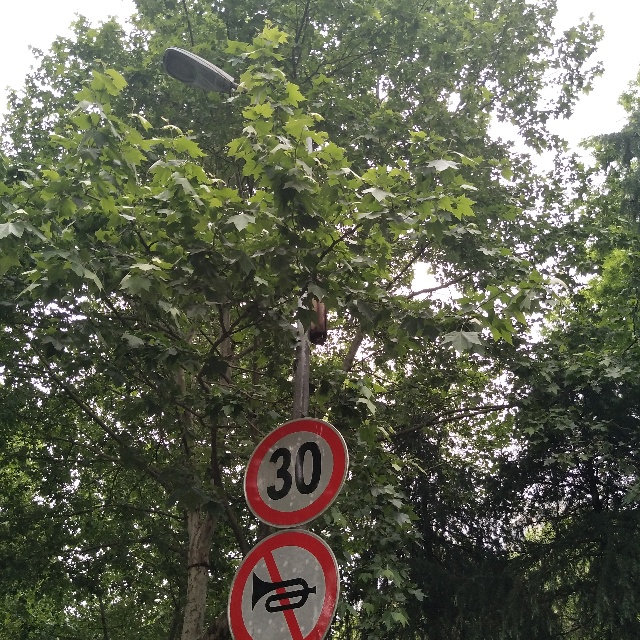nohonk: (226, 529, 347, 640)
